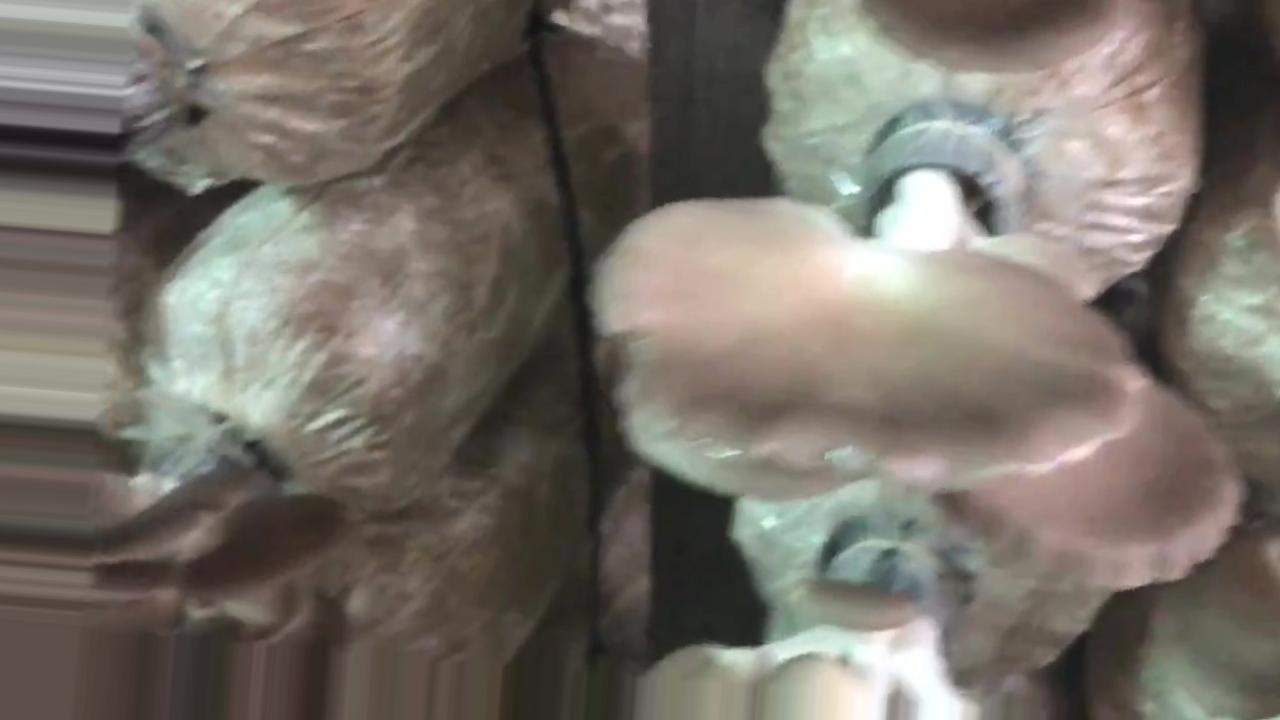nam: (589, 103, 1141, 505), (638, 525, 1010, 720), (974, 378, 1257, 589), (857, 1, 1121, 75)
